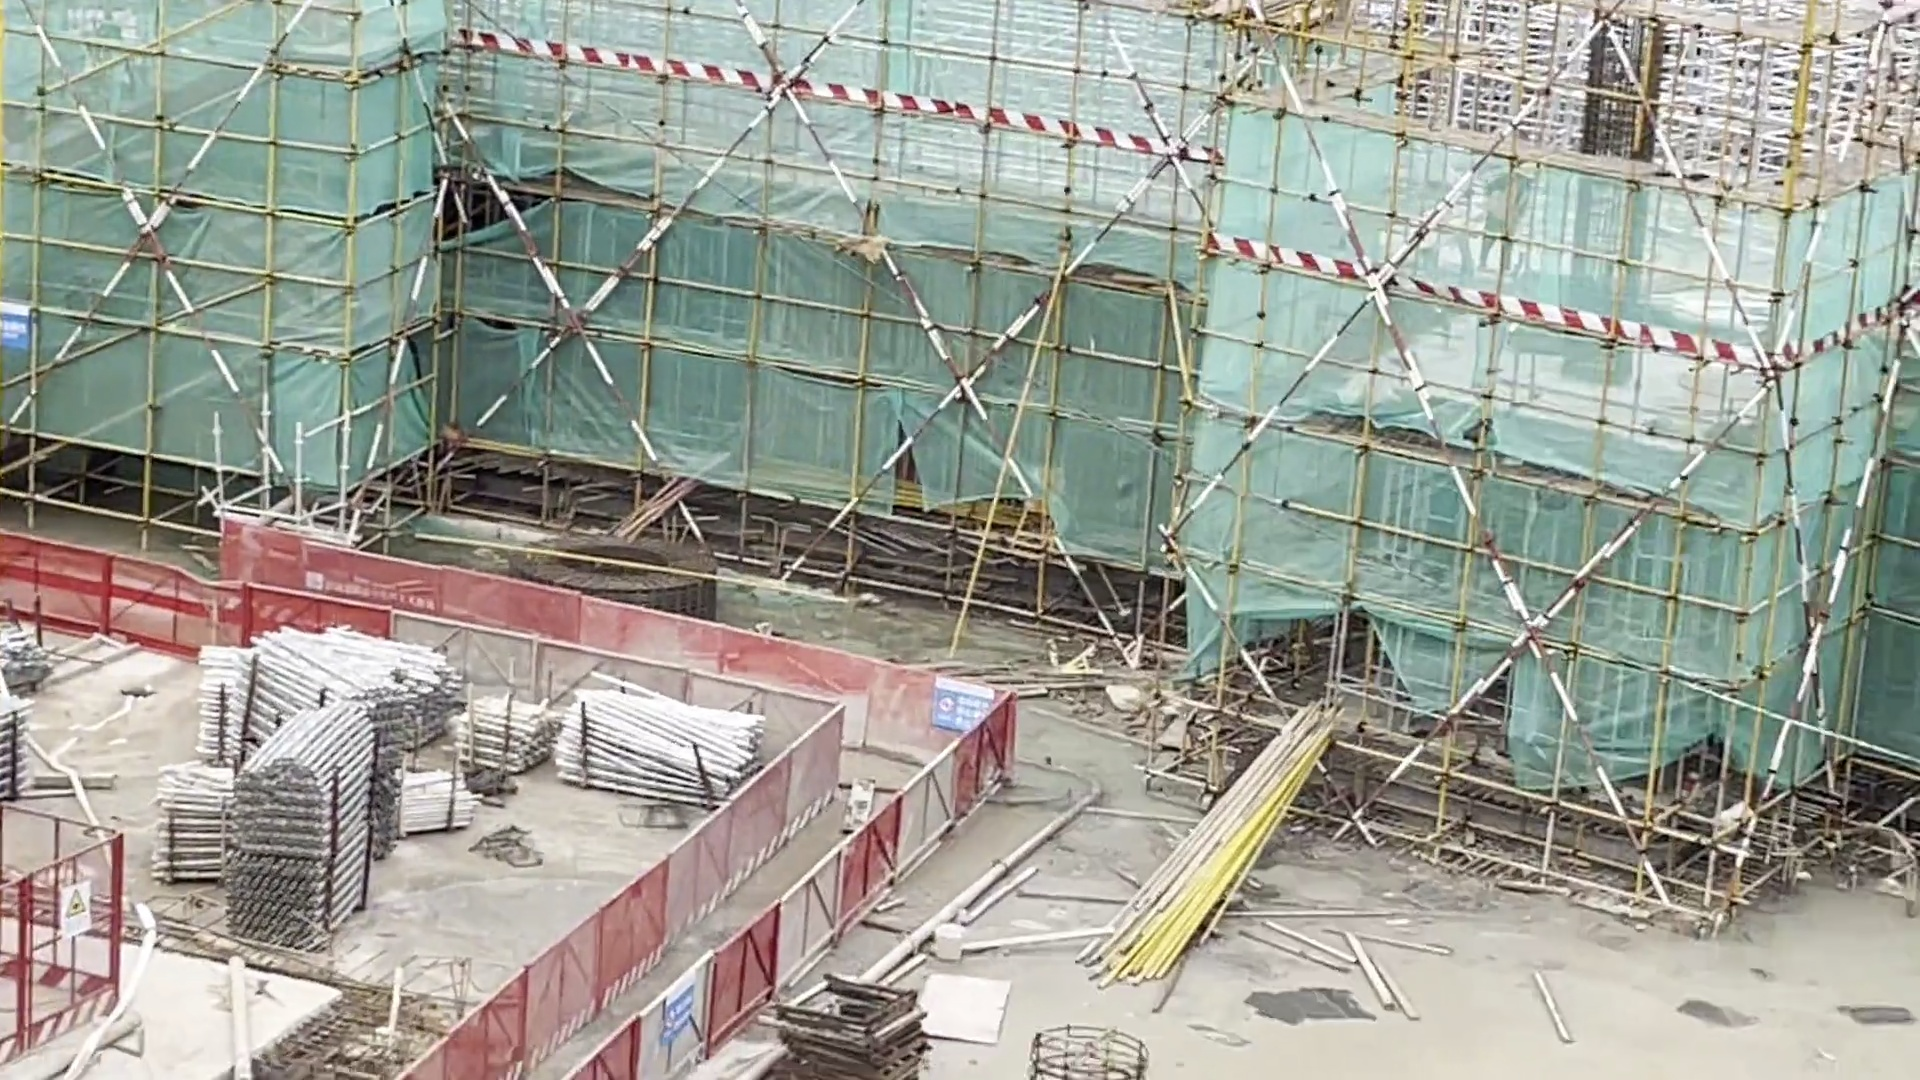fence: (9, 475, 870, 707), (724, 625, 1035, 953), (402, 884, 794, 1080), (1, 800, 141, 1054)
scaffold: (222, 713, 359, 960), (198, 621, 455, 742), (563, 686, 744, 798), (153, 745, 245, 893), (456, 696, 559, 771), (392, 764, 484, 829)
slogan: (634, 953, 715, 1040), (918, 665, 1001, 742), (49, 865, 88, 927)
